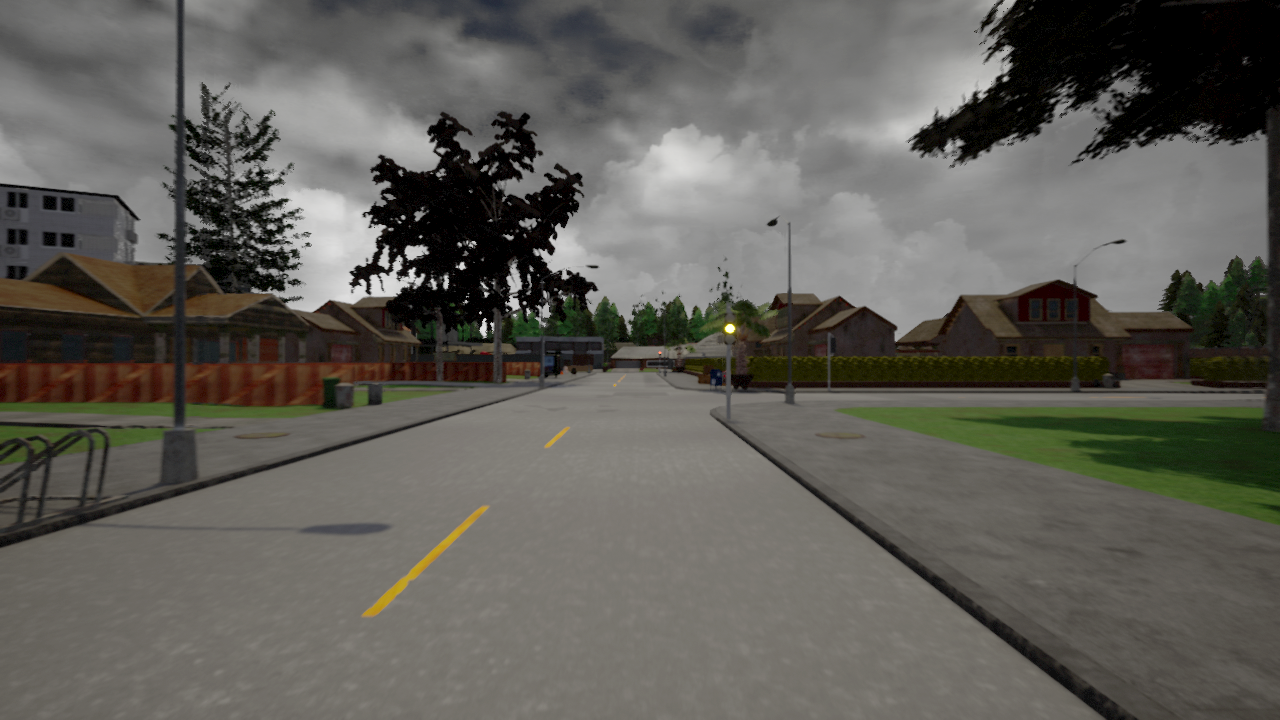yellow: (724, 311, 736, 344)
